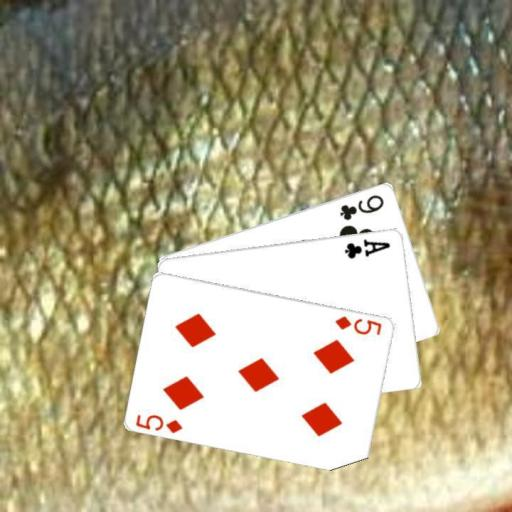card-corner: (336, 190, 386, 222), (133, 411, 185, 435), (332, 312, 383, 336), (342, 236, 392, 260)
